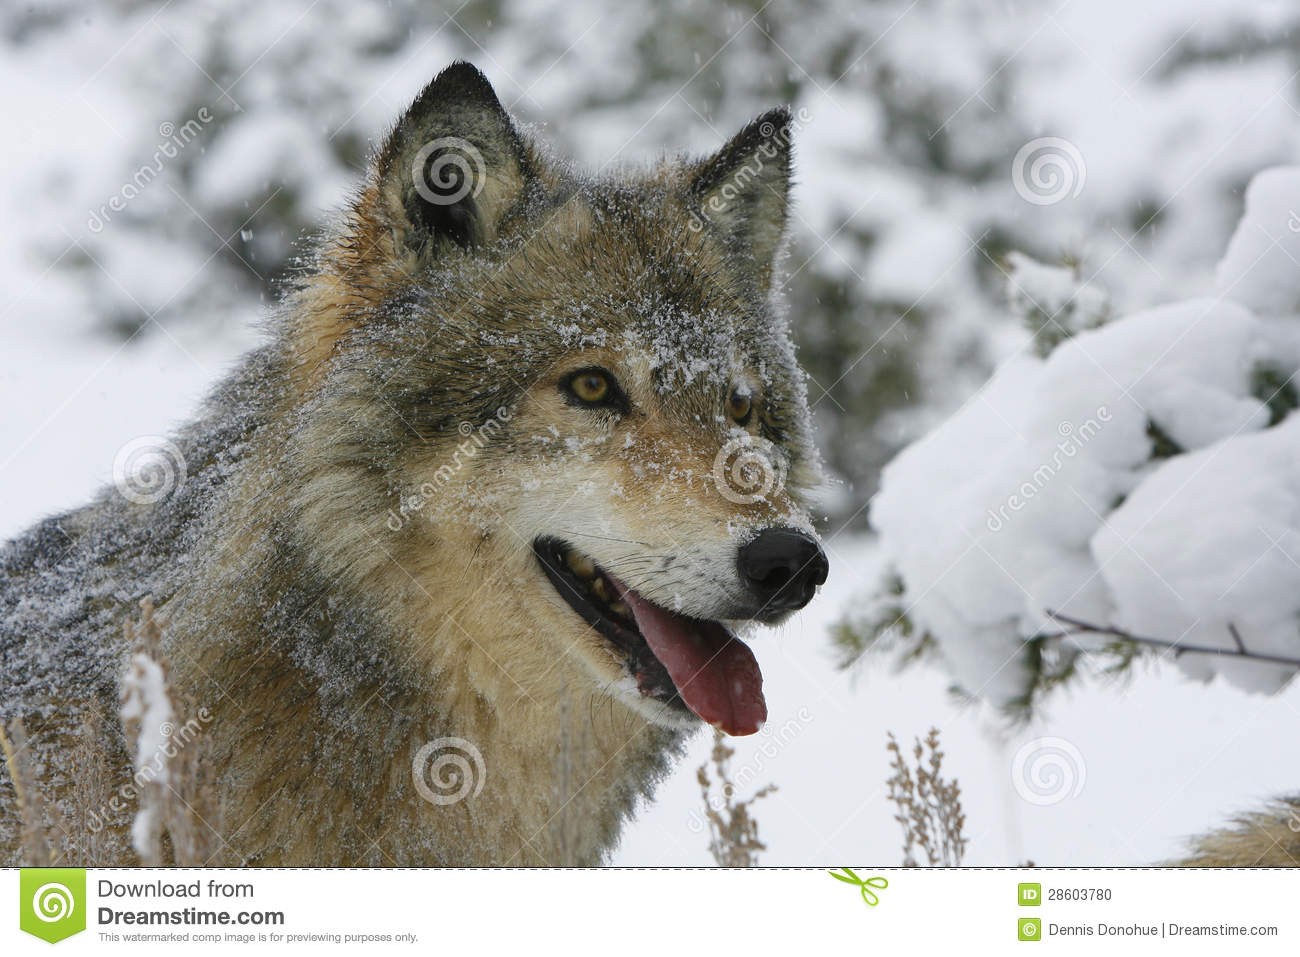Lobo: (121, 89, 881, 825)
